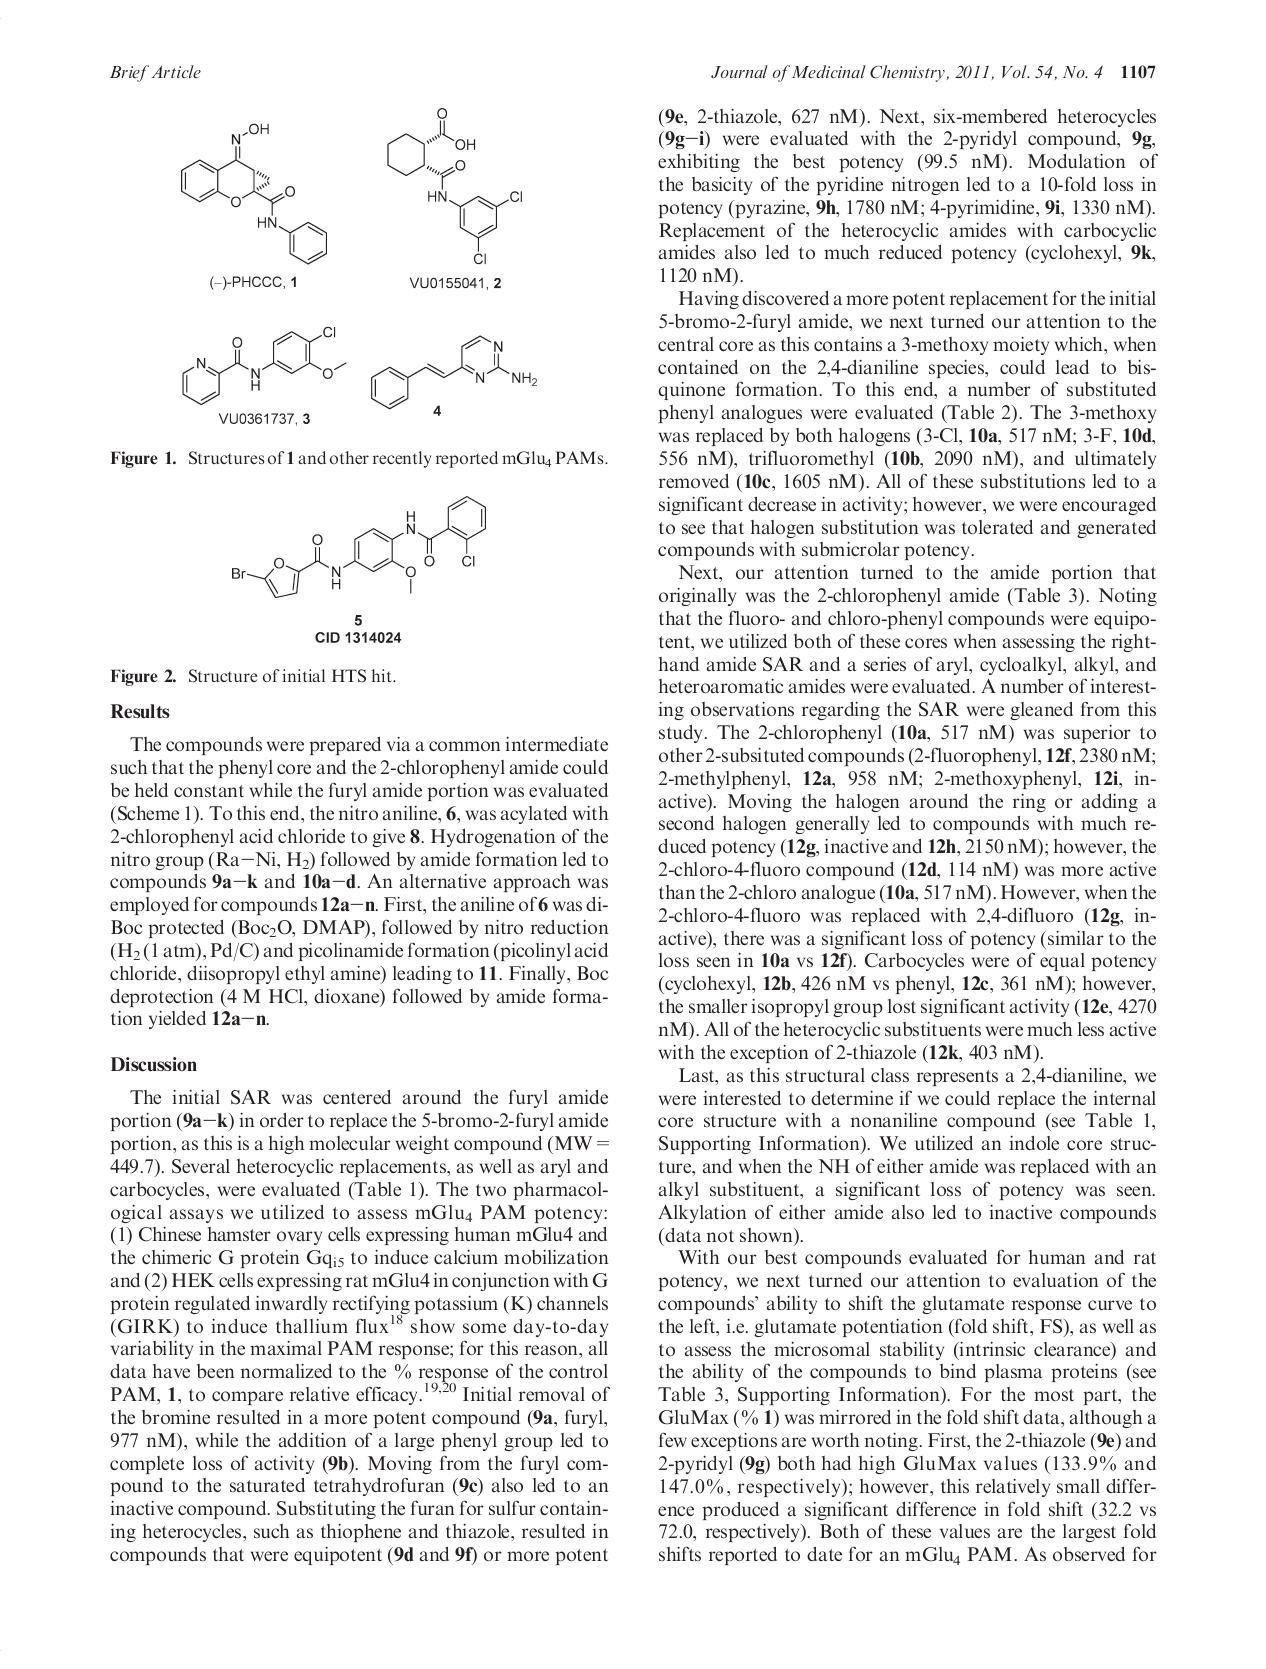exist_molecular: (223, 489, 489, 602), (174, 120, 332, 267), (383, 104, 524, 269), (177, 321, 352, 407), (364, 331, 539, 410)
